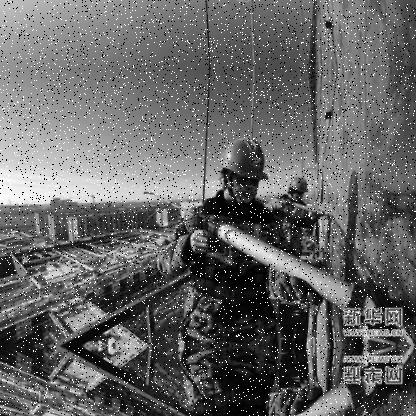Helmet: (216, 137, 270, 209), (281, 170, 321, 207)
